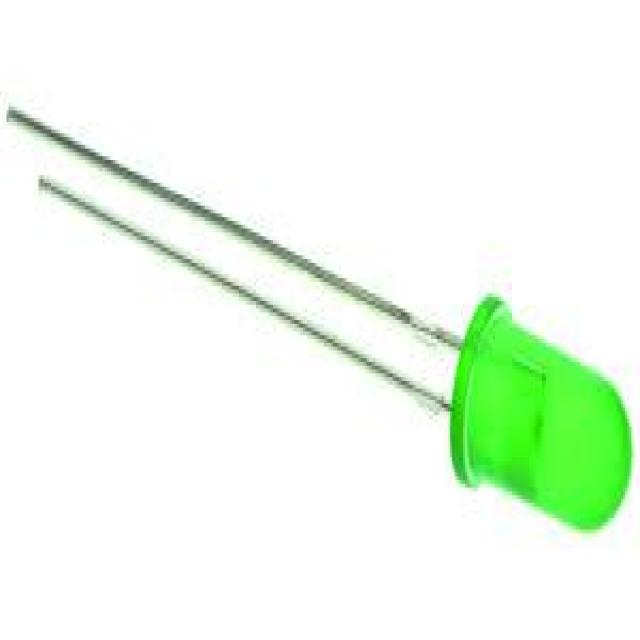Led: (130, 209, 631, 528)
